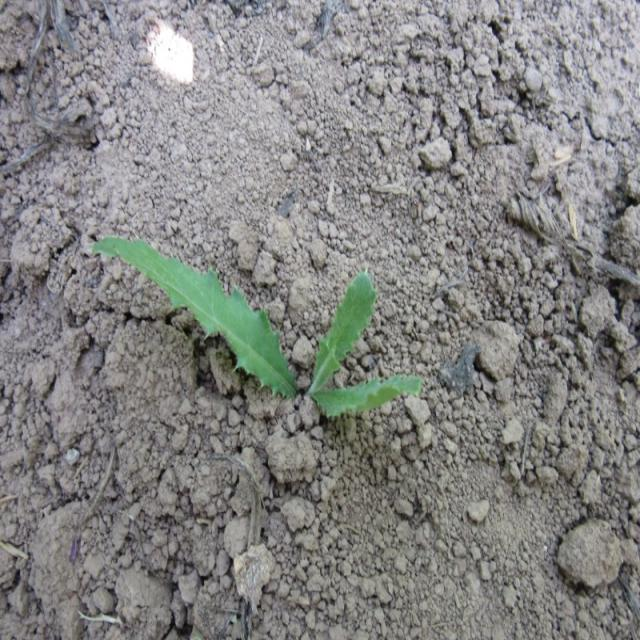field_thistle: (94, 208, 440, 445)
